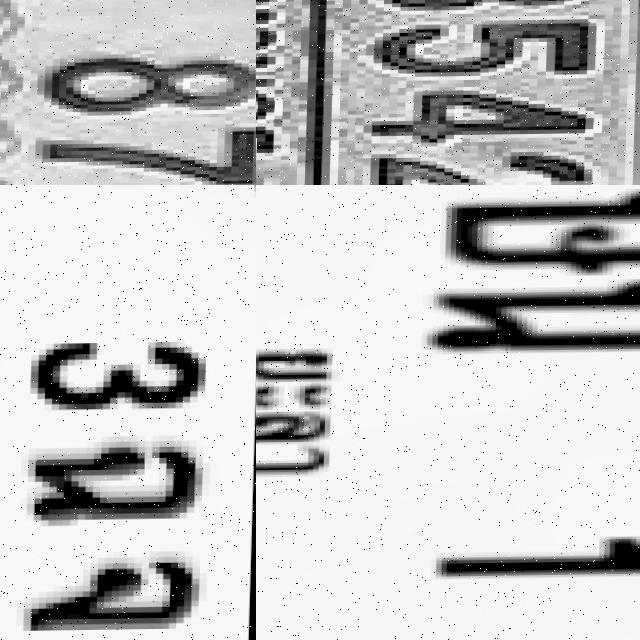license-plate: (256, 185, 640, 640), (0, 185, 256, 640), (256, 0, 640, 185), (0, 0, 256, 185)
